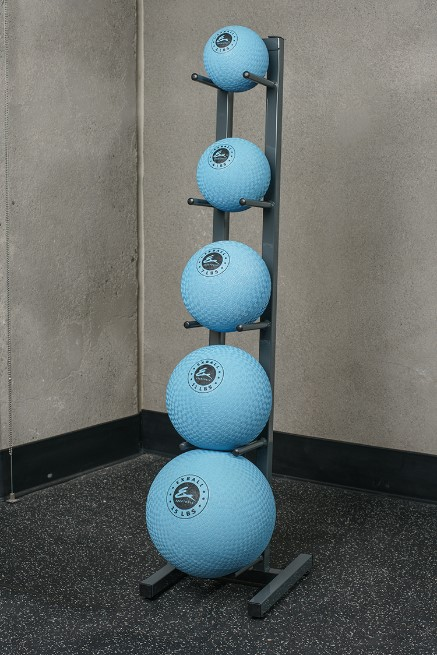blue ball: (146, 449, 276, 580), (165, 344, 272, 450), (181, 240, 273, 332), (196, 136, 272, 211), (202, 24, 270, 92)
